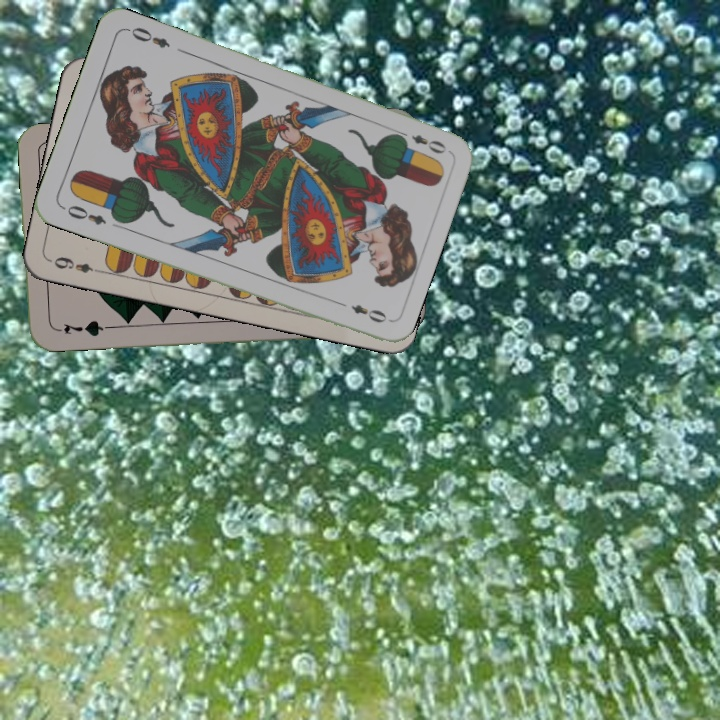E9: (50, 252, 106, 276)
EO: (393, 126, 449, 157), (58, 201, 109, 228)
G7: (51, 316, 110, 339)
